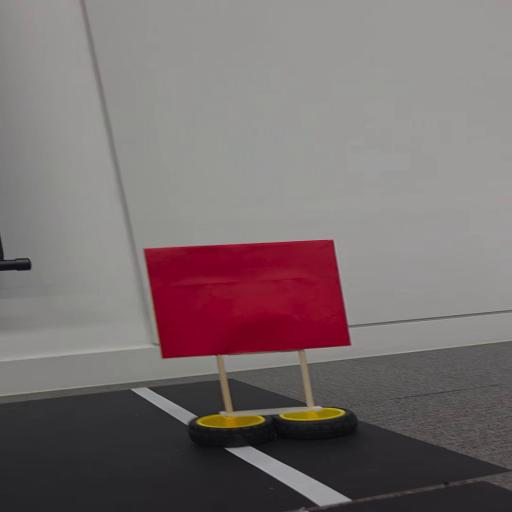Sign_A: (139, 232, 357, 444)
